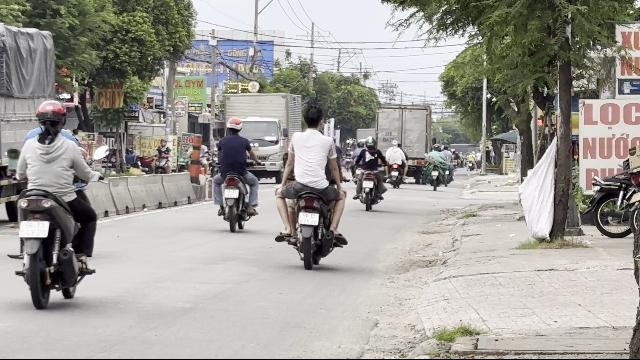helmet: (34, 100, 66, 136)
licenseplate: (18, 220, 50, 238), (298, 212, 320, 226)
motorcyclist: (3, 98, 101, 304), (273, 98, 349, 268)
nohelmet: (300, 103, 324, 134)
